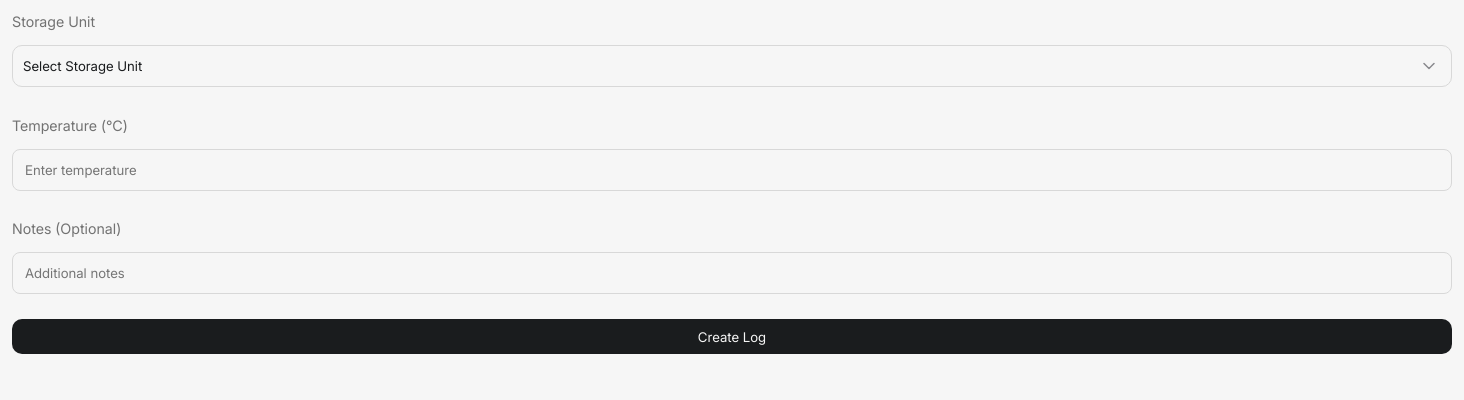
Test: CreateTemperatureLog › shows validation error when required fields are missing
The width and height of the screenshot is (1464, 400).
Click the button with class "create-btn" at {"x": 732, "y": 337}, box [12, 319, 1452, 354]
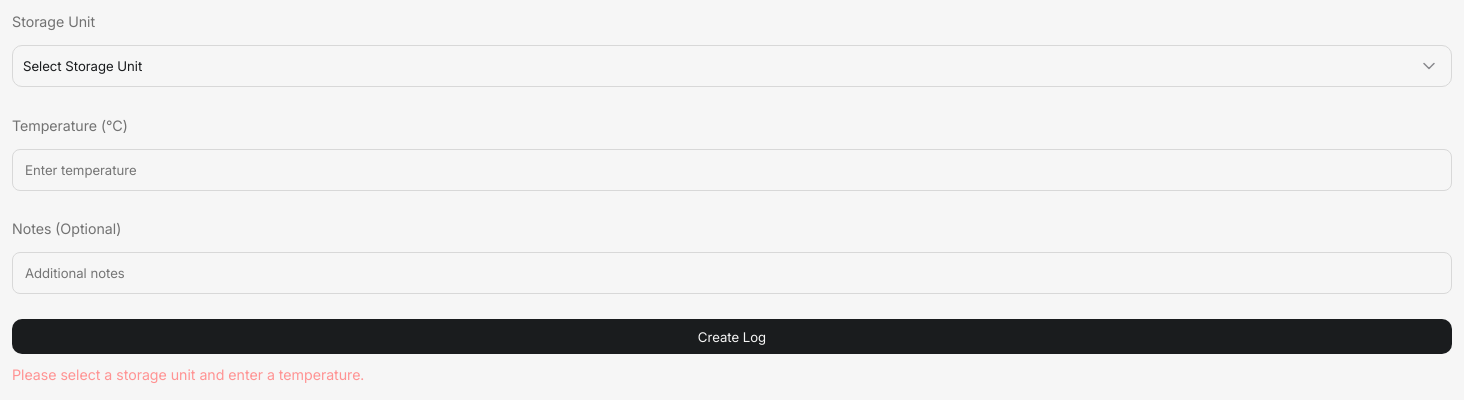
Check: the text "Please select a storage unit and enter a temperature." is shown, box [12, 366, 364, 383]
